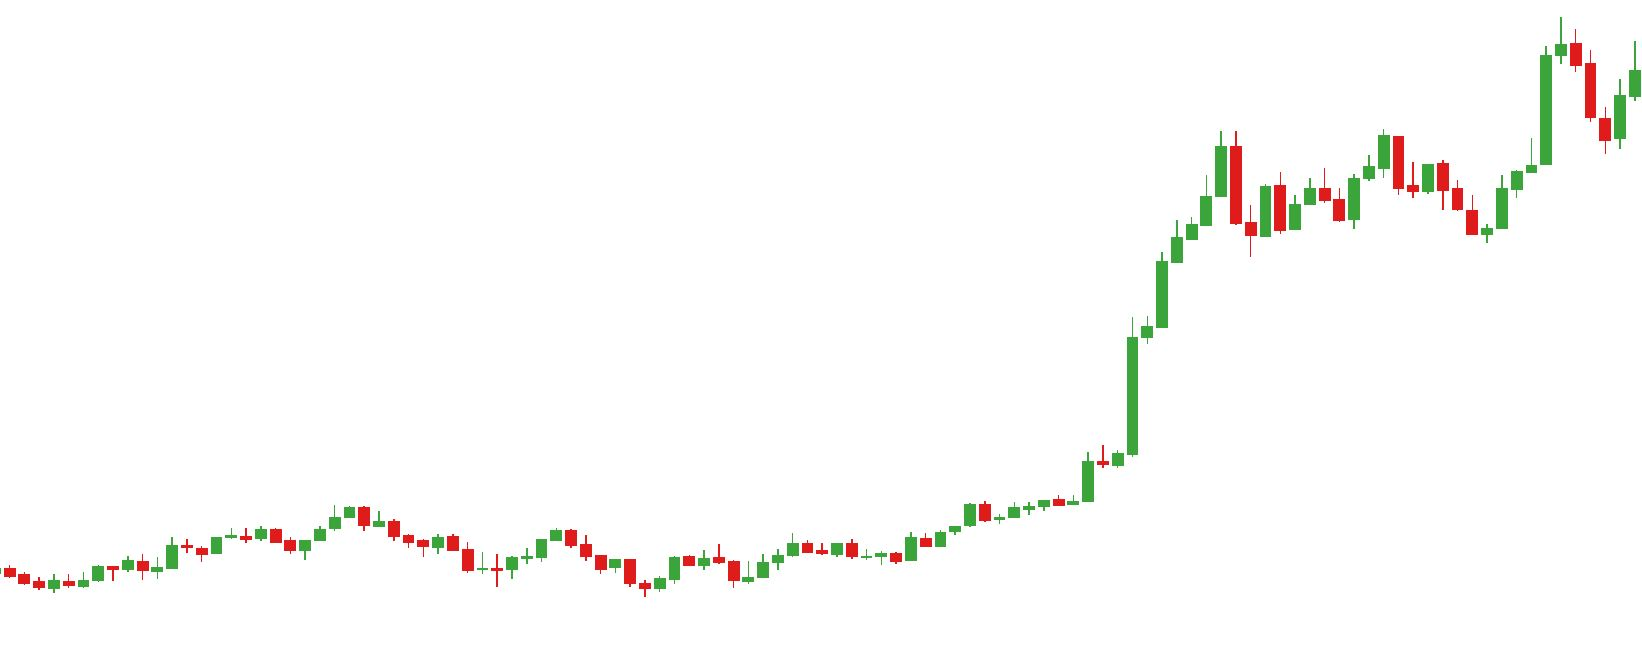buy: (1332, 169, 1511, 243)
